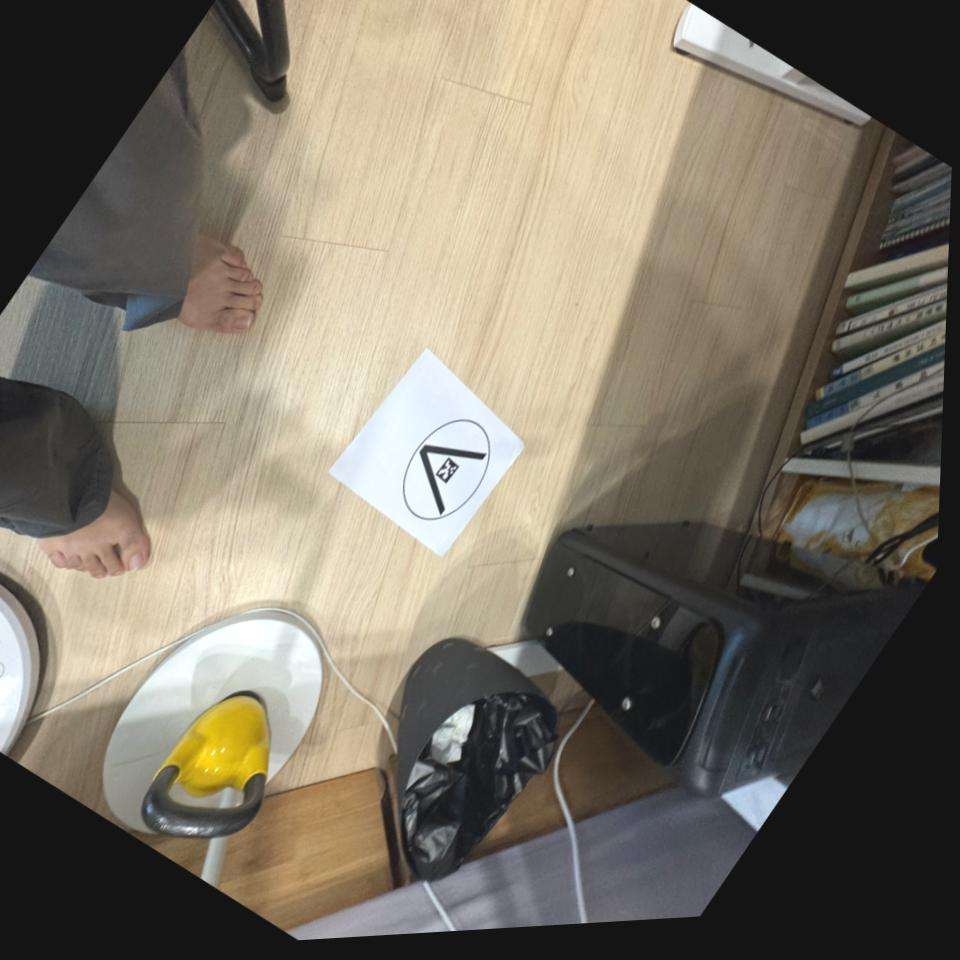vertiport: (373, 392, 519, 550)
